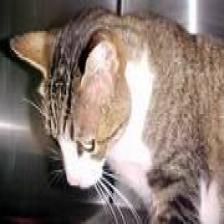cat: (9, 6, 130, 194)
